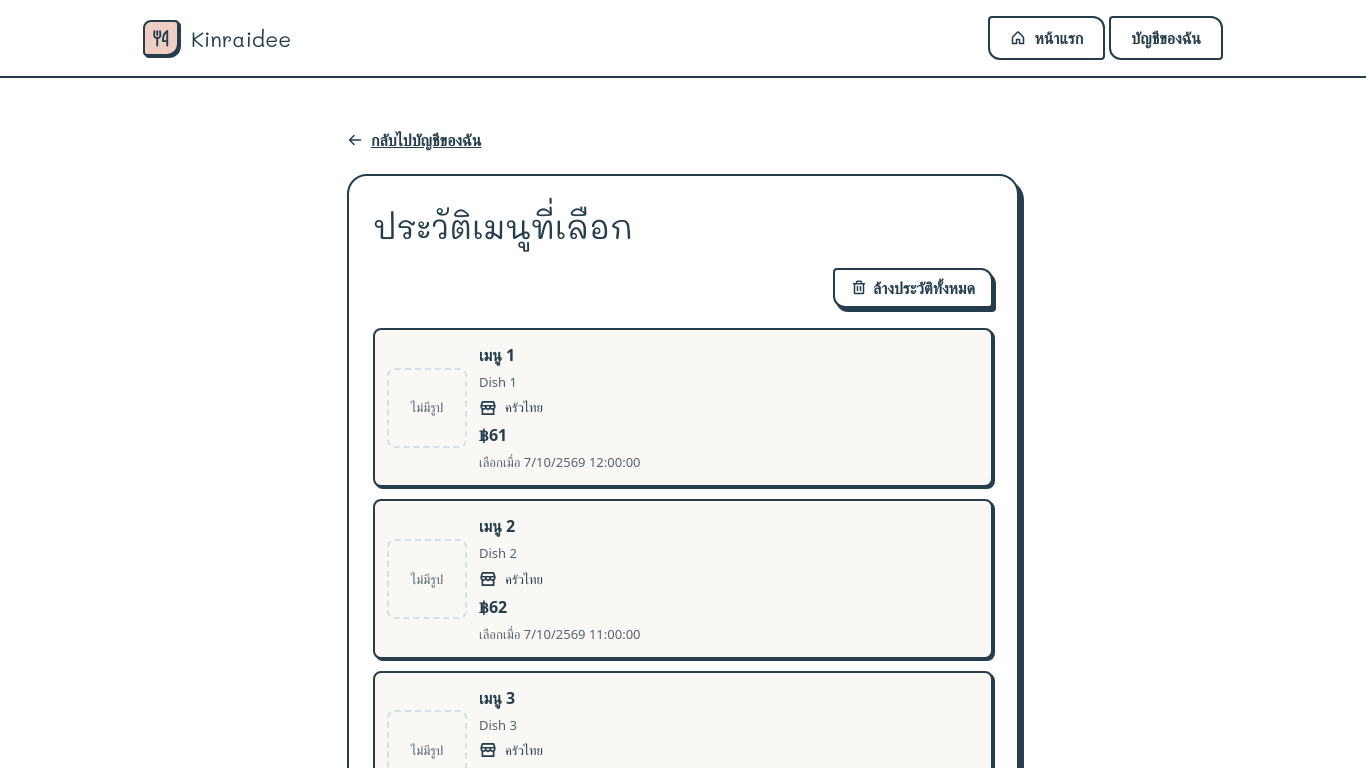
Test: HistoryPage › clears everything only after confirmation, then announces it and keeps focus
Click the button "ล้างประวัติทั้งหมด" at (913, 288), box x1=833 y1=268 x2=993 y2=308
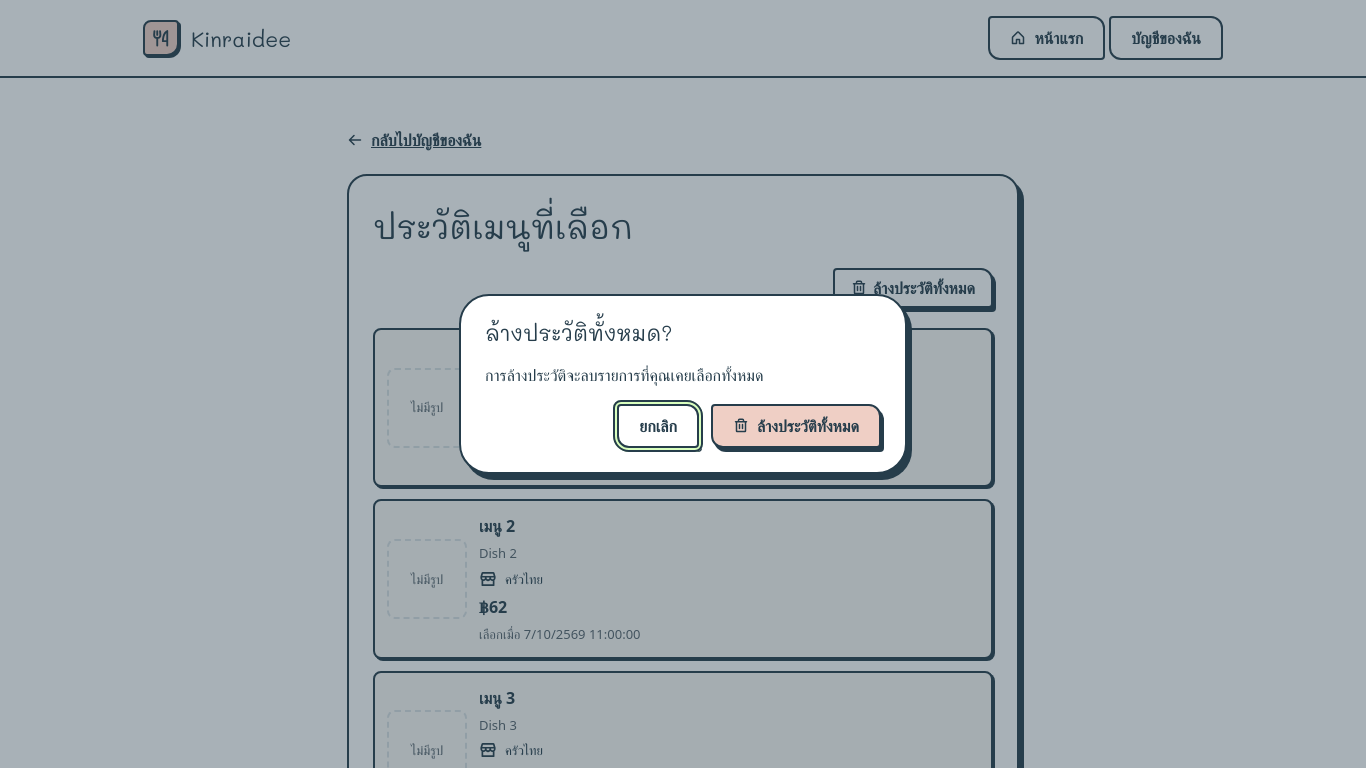
Expected: the text "การล้างประวัติจะลบรายการที่คุณเคยเลือกทั้งหมด" is shown, x1=485 y1=364 x2=764 y2=386
Click the button "ยกเลิก" at (658, 426), box x1=617 y1=404 x2=699 y2=448
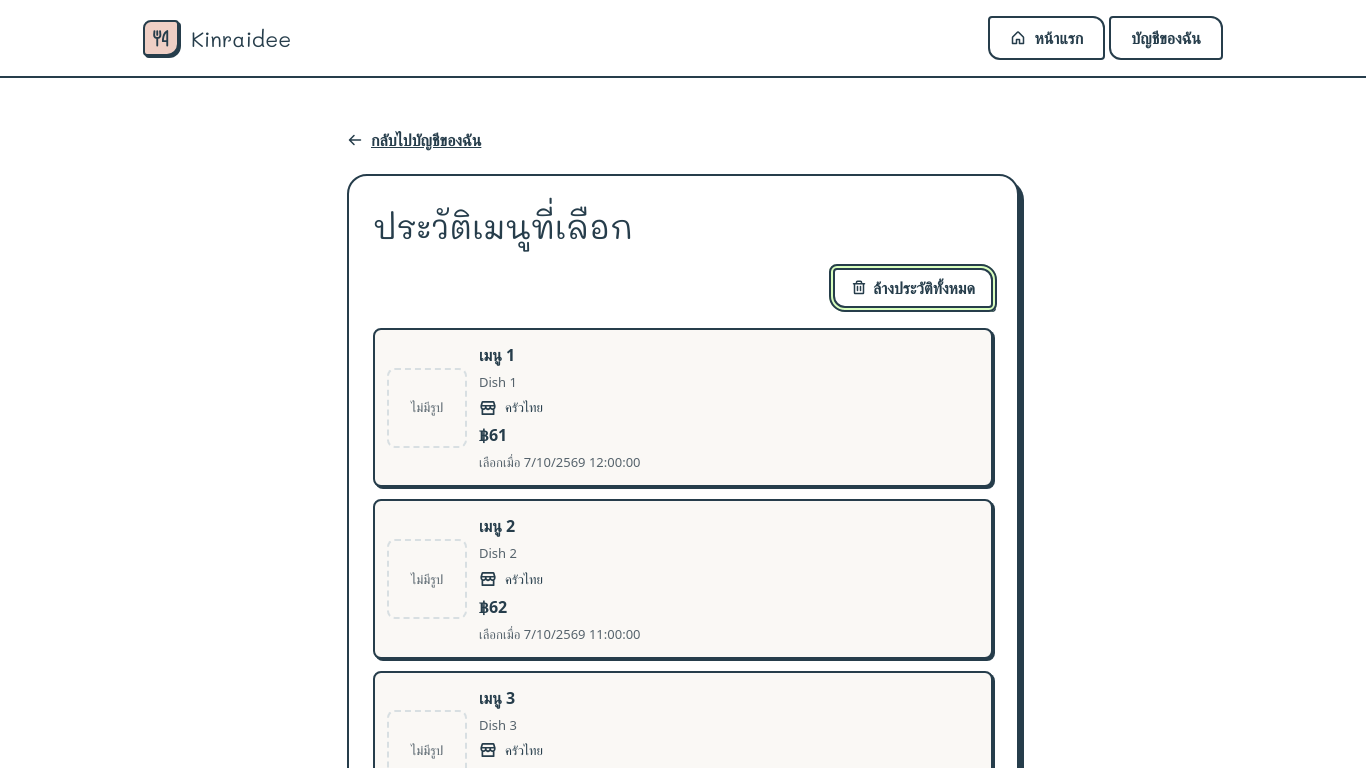
Click the button "ล้างประวัติทั้งหมด" at (913, 288), box x1=833 y1=268 x2=993 y2=308
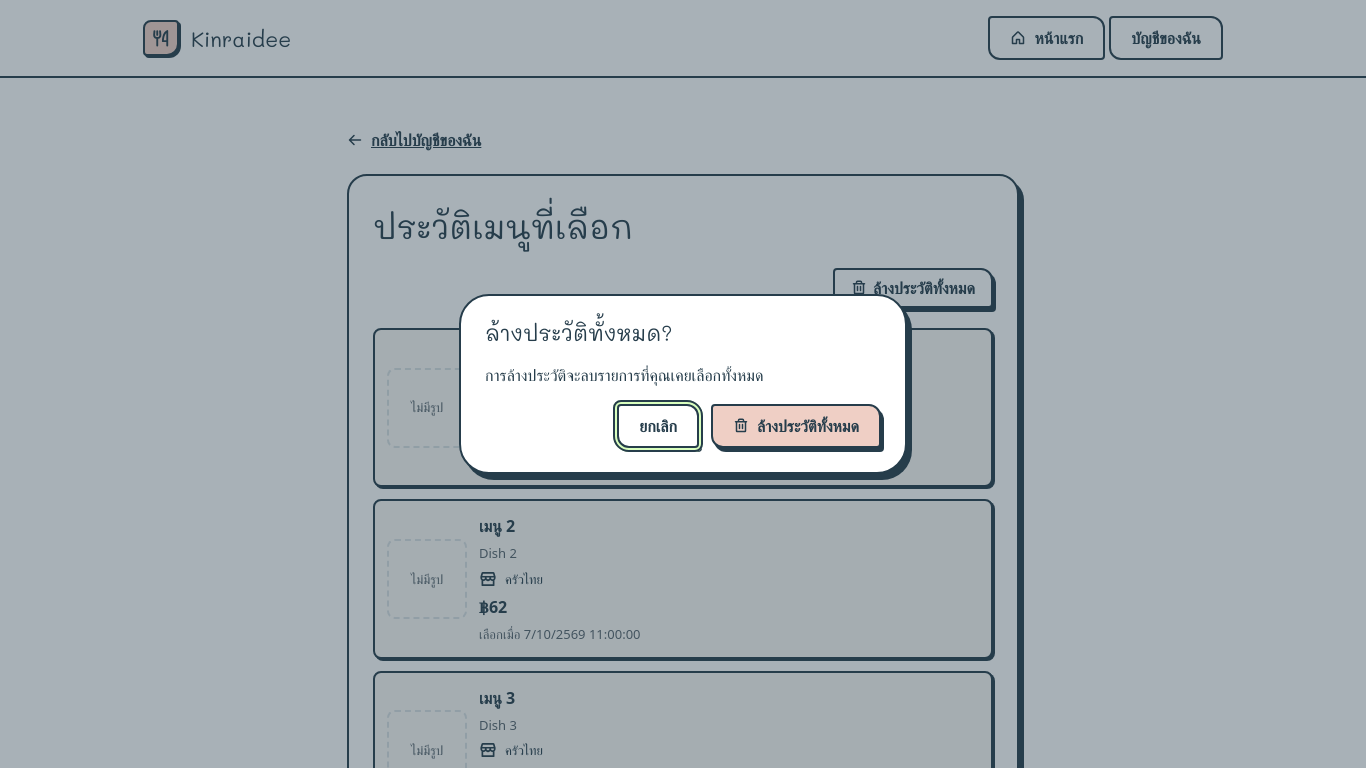
Click the button "ล้างประวัติทั้งหมด" at (796, 426), box x1=711 y1=404 x2=881 y2=448
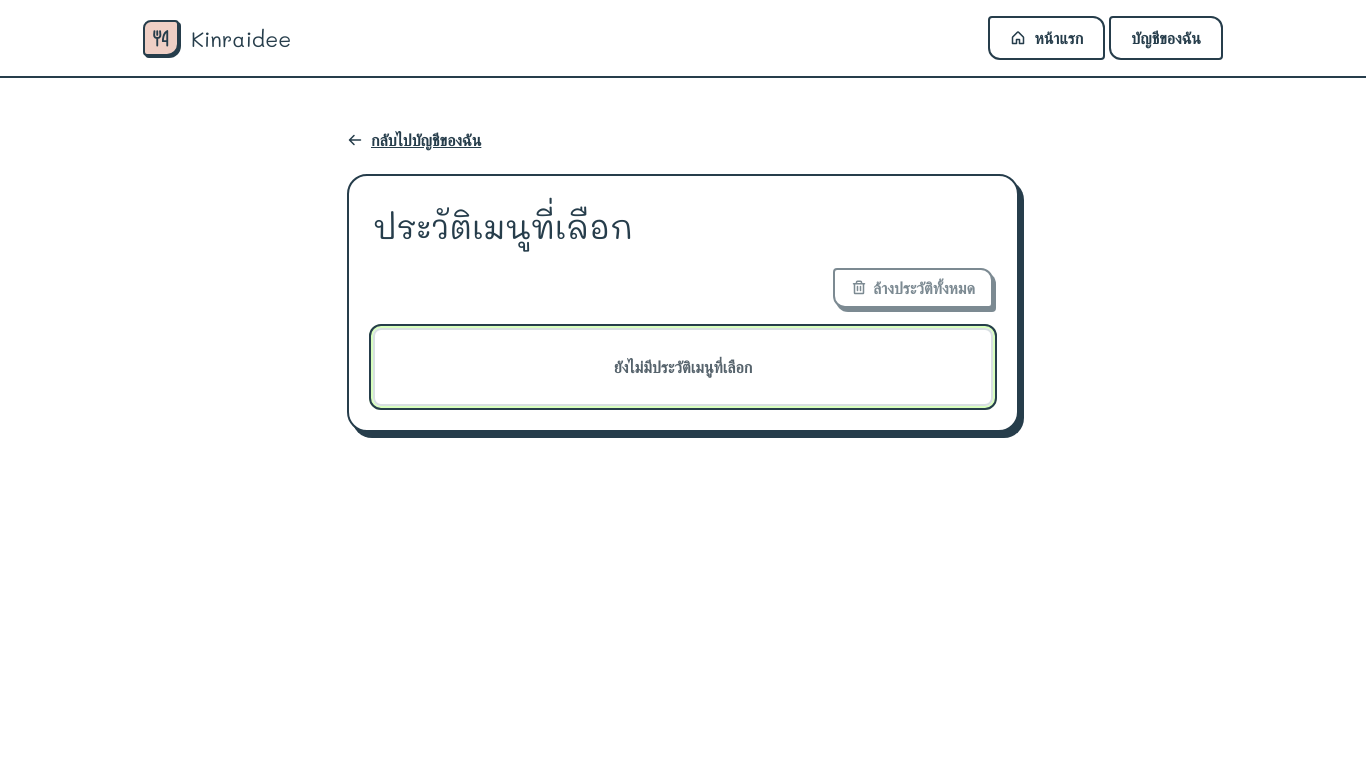
Expected: the text "ยังไม่มีประวัติเมนูที่เลือก" is shown, x1=373 y1=328 x2=993 y2=406
